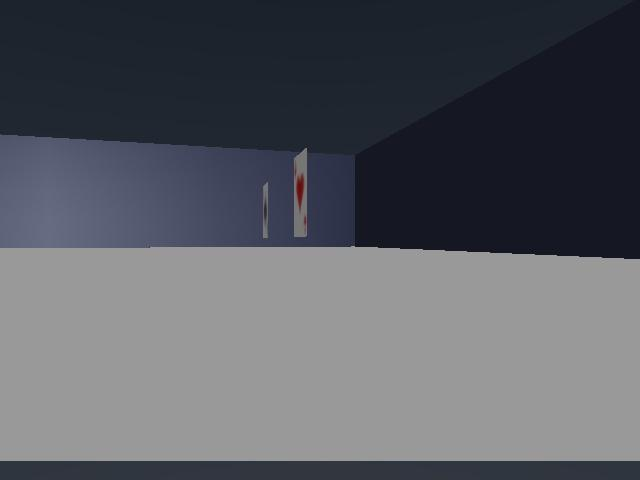diamond: (294, 148, 307, 236)
